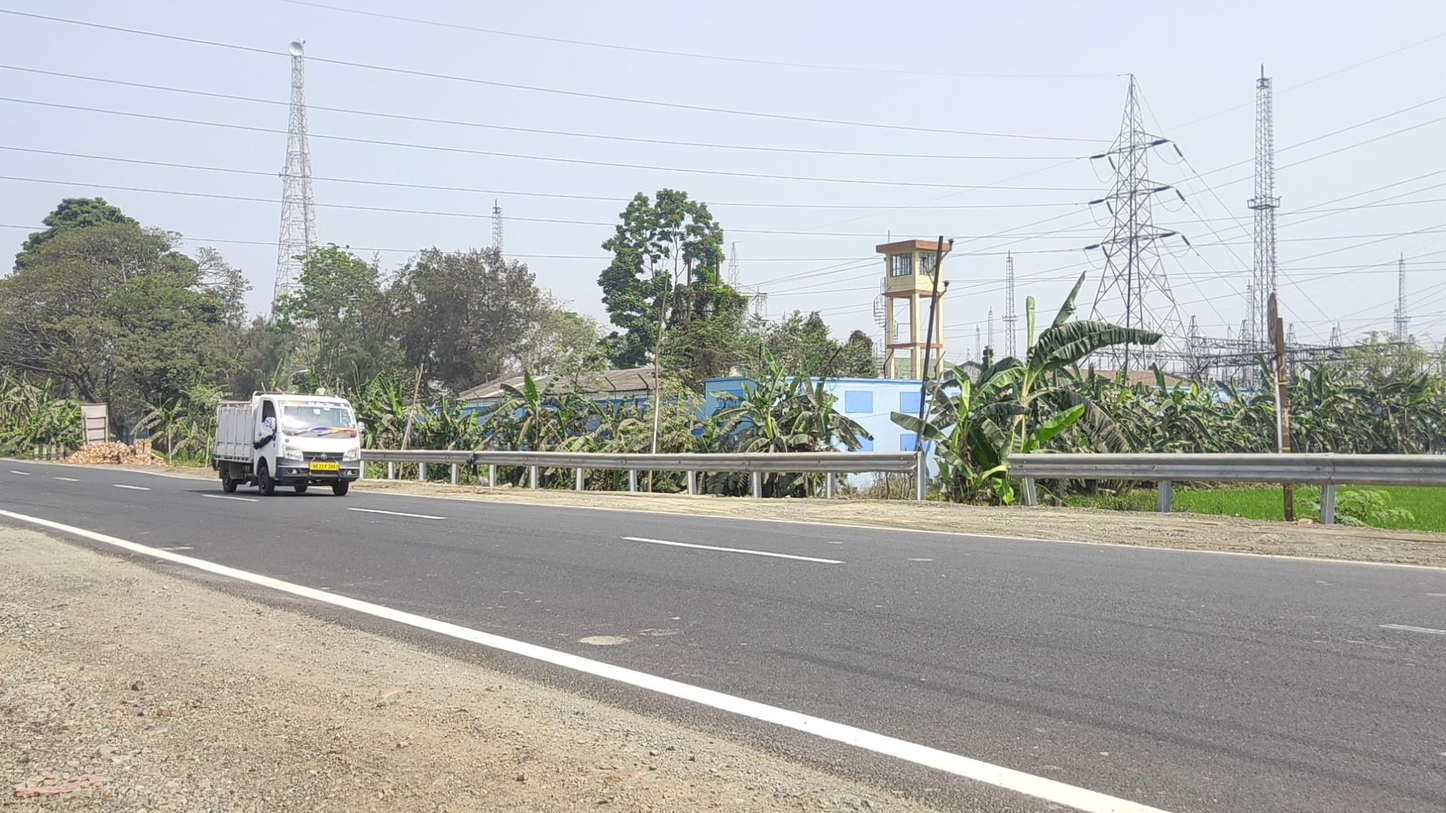van: (212, 391, 365, 497)
